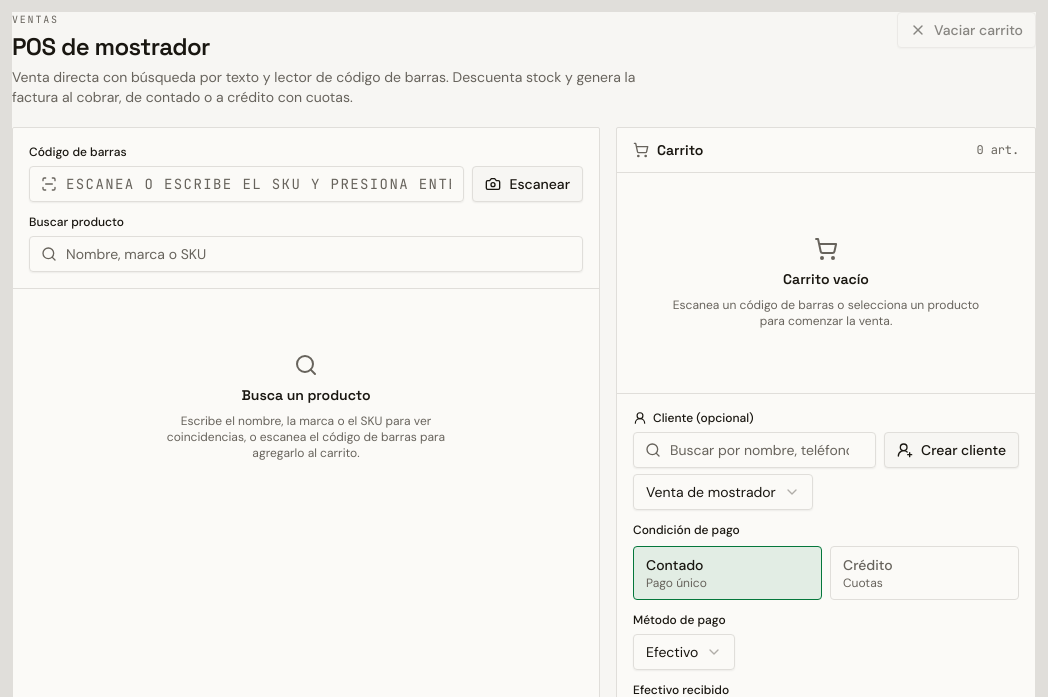
Scenario: PosPage cart editing (characterization) › removes a line from the cart
Type "balata" into the field with test id "pos.search_input" at (306, 254), box [29, 236, 583, 272]
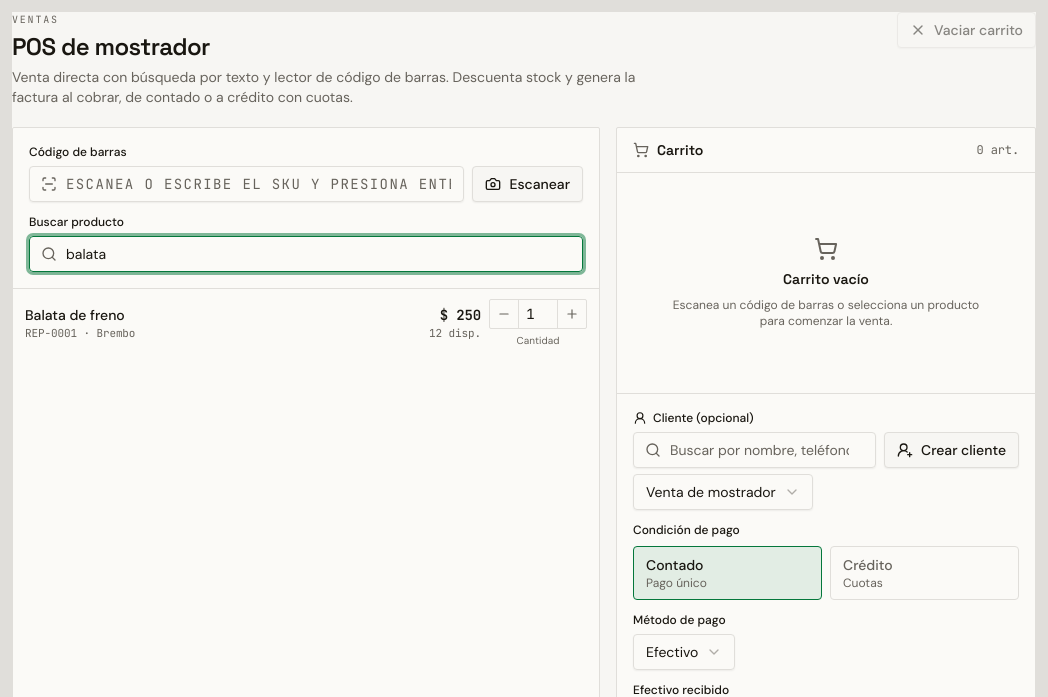
Expected: the button with test id "pos.product_item.1" is shown
Click the button with test id "pos.product_item.1" at (75, 315), box [25, 299, 481, 348]
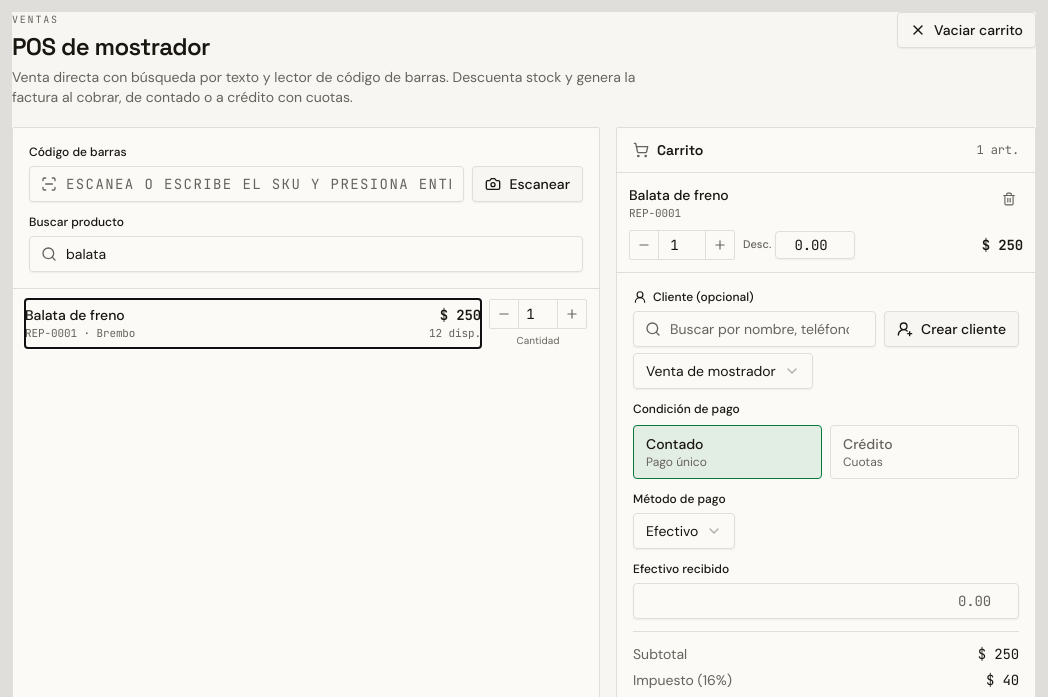
Expected: the list with test id "pos.cart_list" is shown, [617, 173, 1035, 272]
Click the button with test id "pos.remove_button.1" at (1009, 199), box [995, 185, 1023, 213]
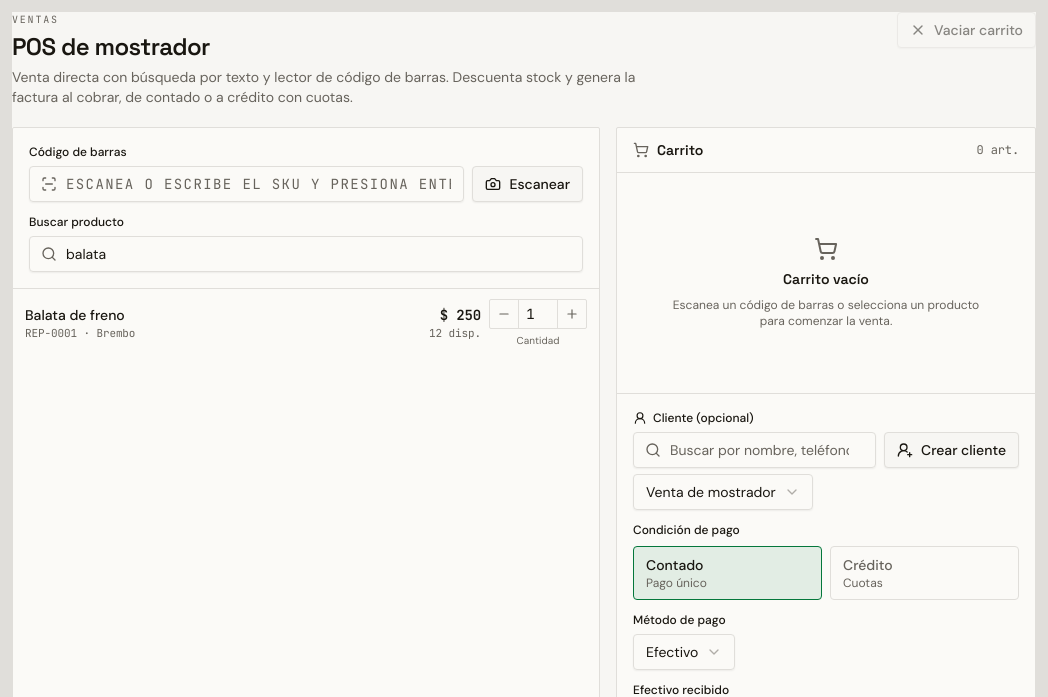
Expected: the element with test id "pos.cart_empty_state" is shown, [673, 237, 979, 329]
